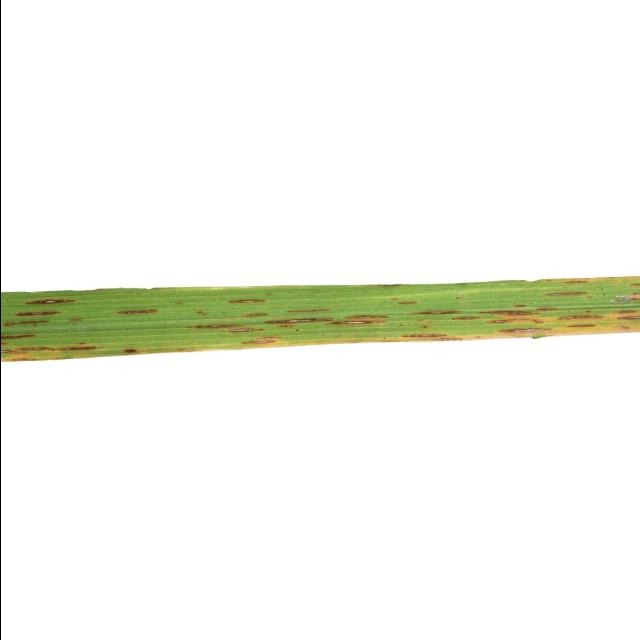Narrow brown: (0, 207, 640, 456)
